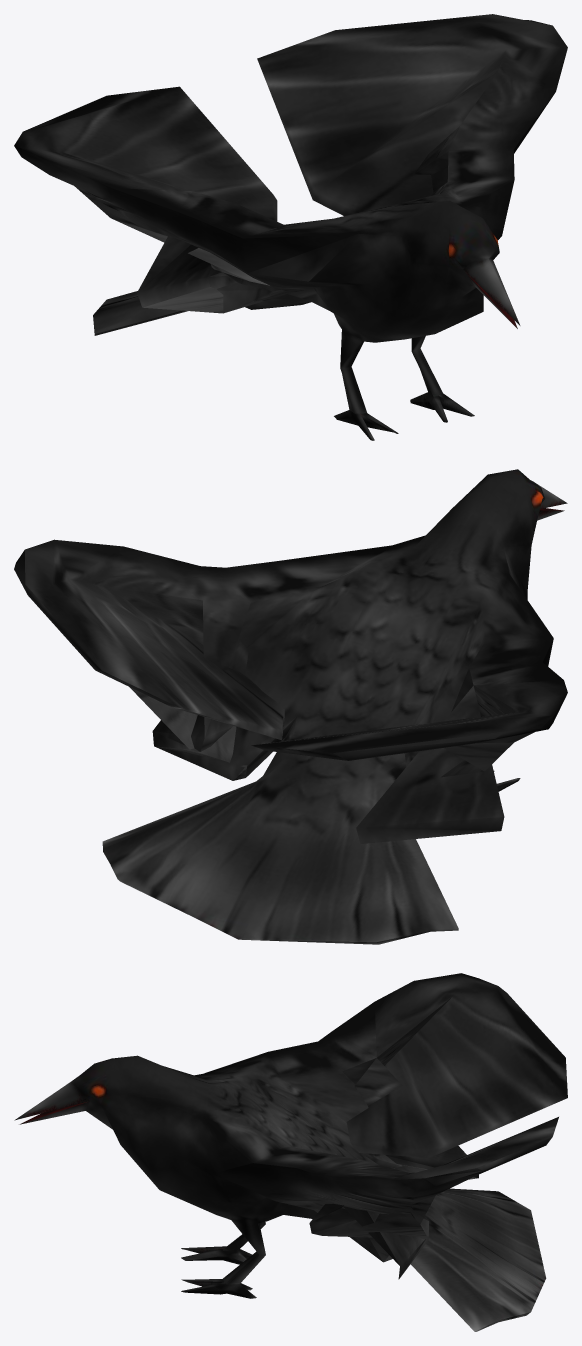
File: raven.obj
3 renders of one model, top to bottom at view 1: azimuth 30°, elevation 25°; view 2: azimuth 150°, elevation 25°; view 3: azimuth 270°, elevation 25°, orthographic. The views are drawn at different scales.
Visible parts, largest first — view 1: Group; view 2: Group; view 3: Group.
Part boxes in pixels (left/top/right/bottom): Group: left=14, top=14, right=567, bottom=440; Group: left=14, top=469, right=567, bottom=944; Group: left=14, top=973, right=567, bottom=1331.
Size of the model in its own units: 28.28 by 13.5 by 30.32.
